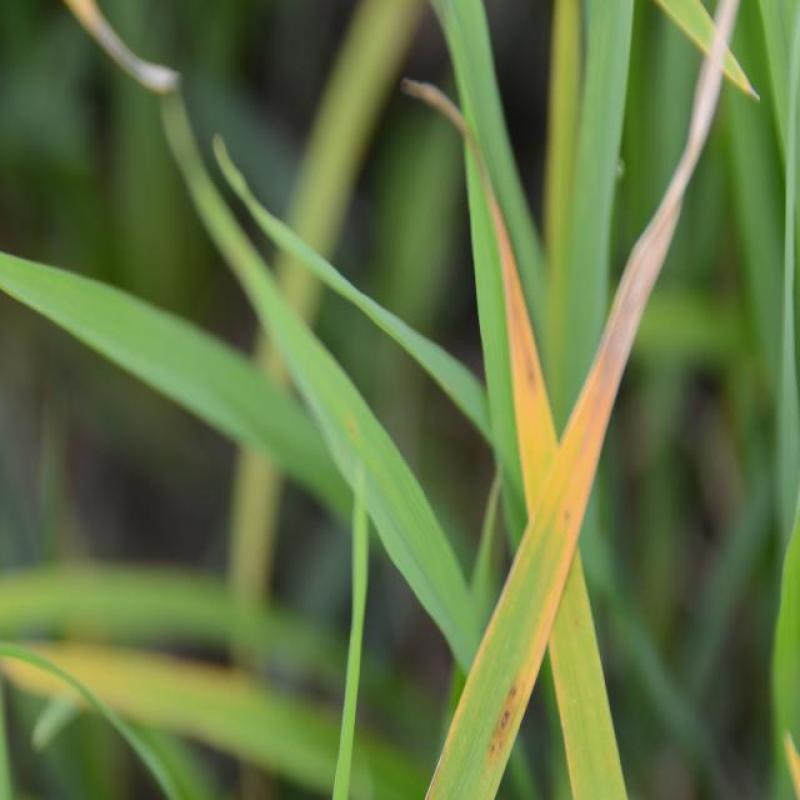Rice Tungro: (451, 321, 650, 800)
